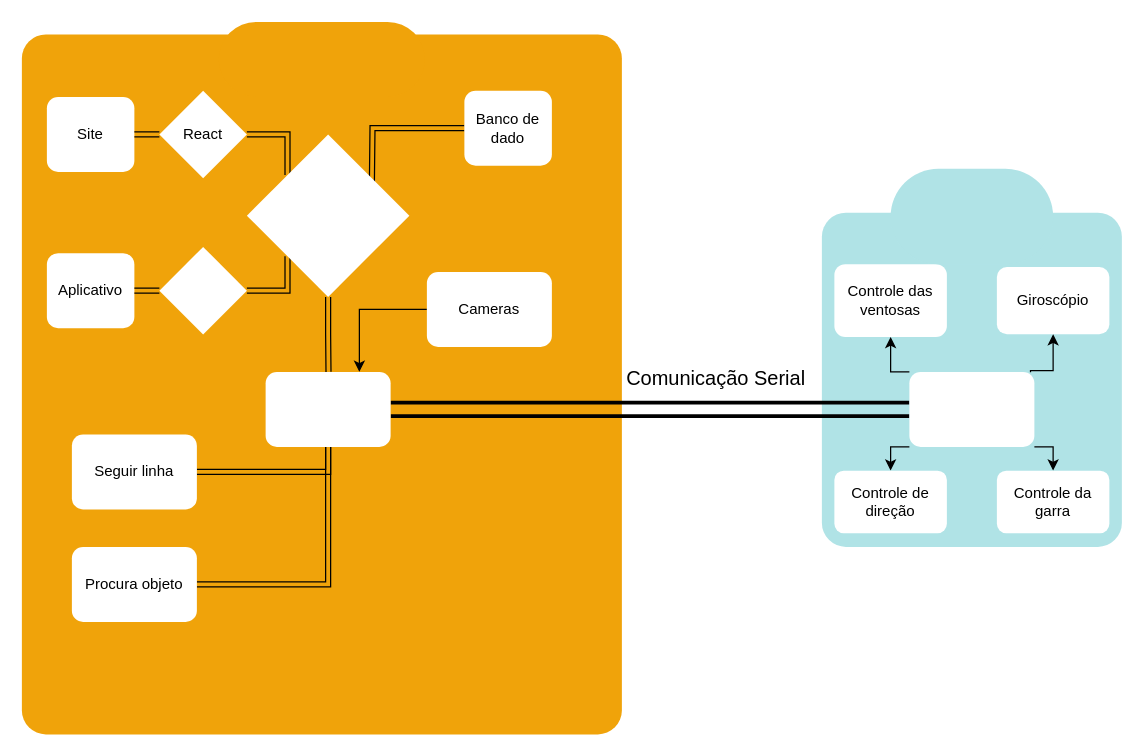
The diagram is 1143 pixels wide and 755 high, and some of its shapes have lost their labels. Here are the shapes that lost their labels. From the top down, the centre of each, then its label:
point (321, 58): RaspBerry
point (327, 215): API Flask + Serial + GPIO
point (971, 216): Esp32
point (202, 290): React Native
point (327, 408): Processamento
point (971, 408): Interpretação
